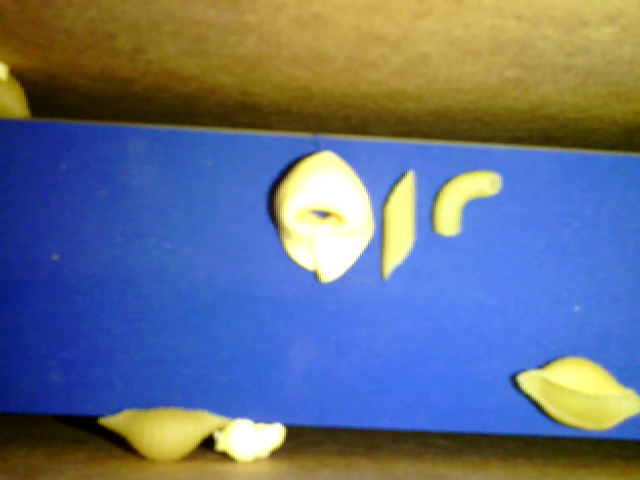elbow: (433, 166, 500, 237)
penne: (377, 170, 417, 280)
shell: (512, 350, 638, 428), (94, 407, 231, 460)
tortellini: (273, 150, 374, 283)
